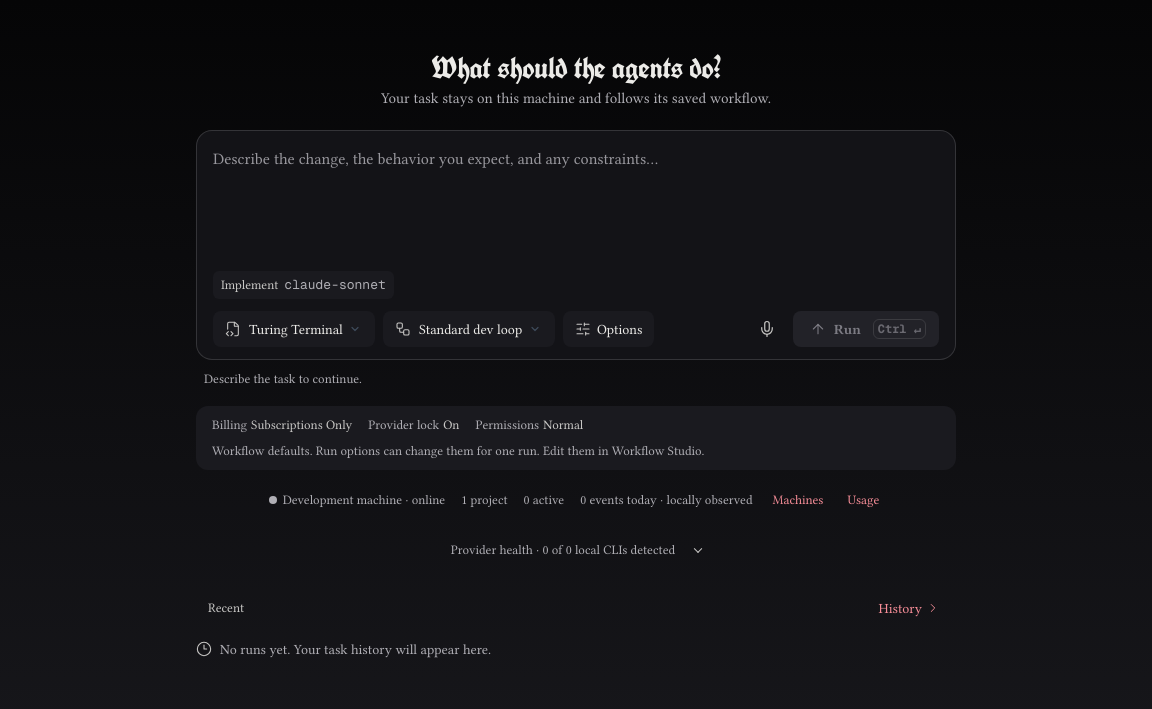
Test: run preview notice matches canStart (finding 10) › [GREEN guard] a startable preview is still announced as ready
Type "Fix the parser" into the text box named "What should the agents do?".
click(576, 203); type("Fix the parser")  # box [213,147,939,259]
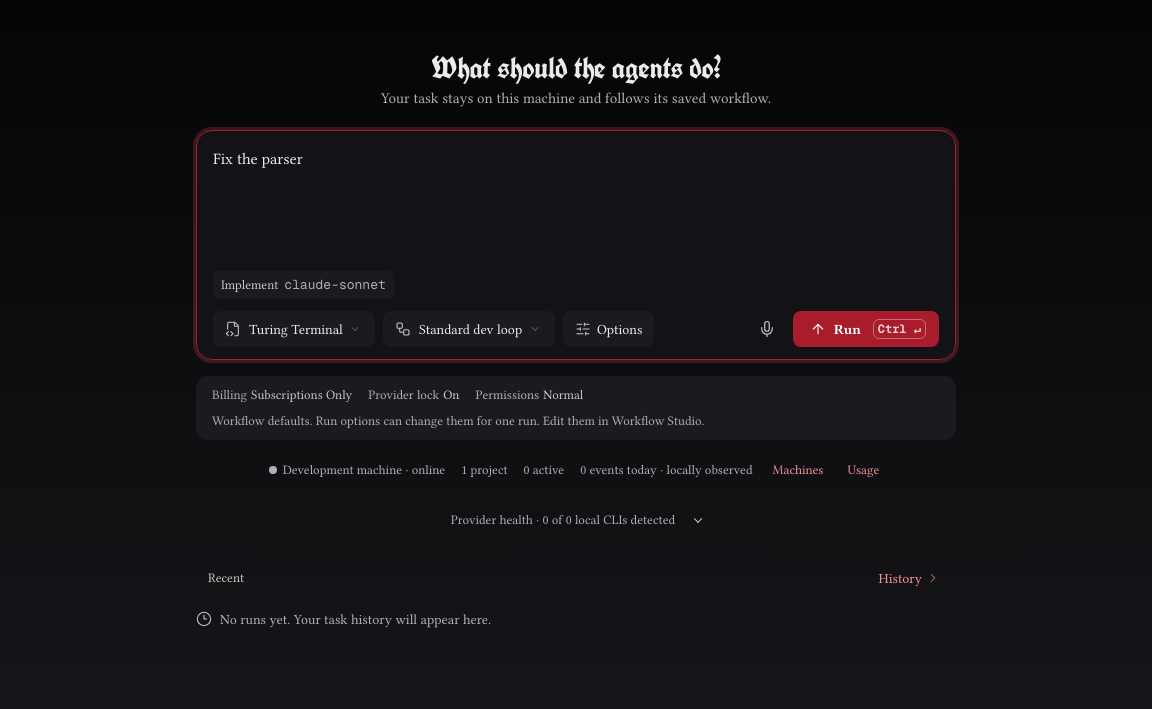
Click the button with aria-label "Review run preview".
click(866, 329)  # box [793,311,939,347]
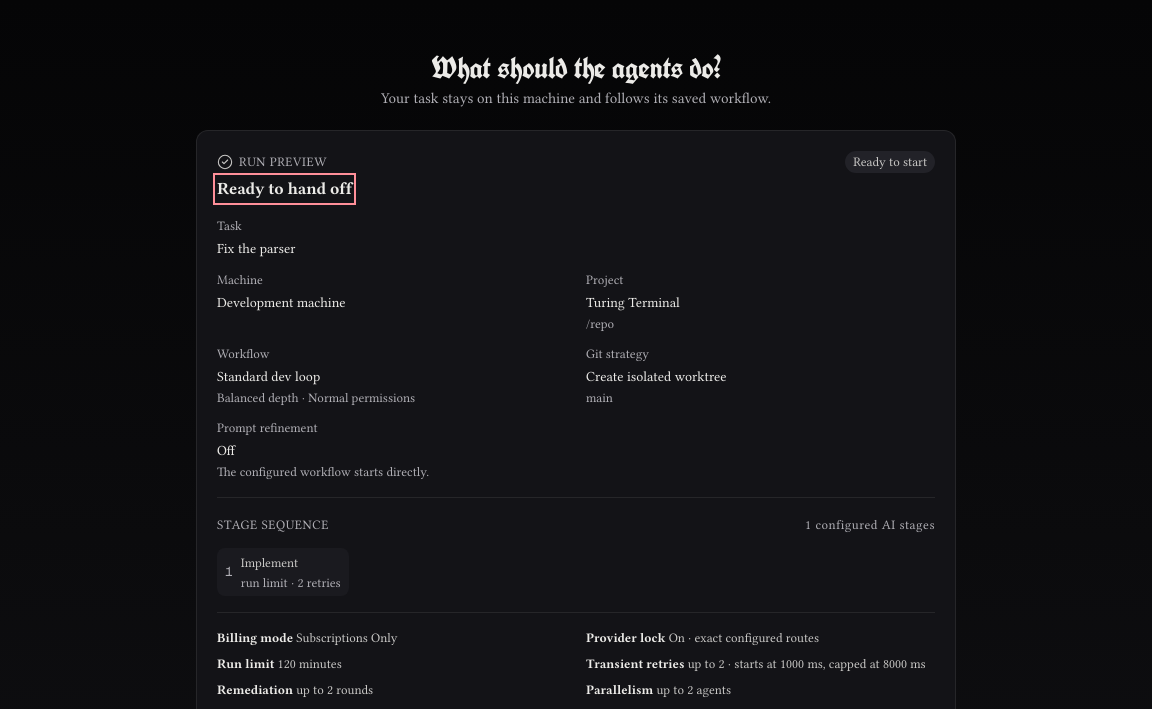
Expected: the heading "Ready to hand off" is shown, [217,177,352,201]
